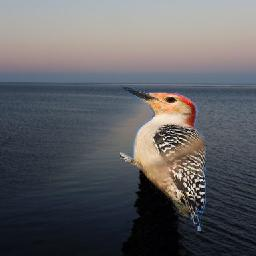Woodpecker: (120, 85, 206, 232)
